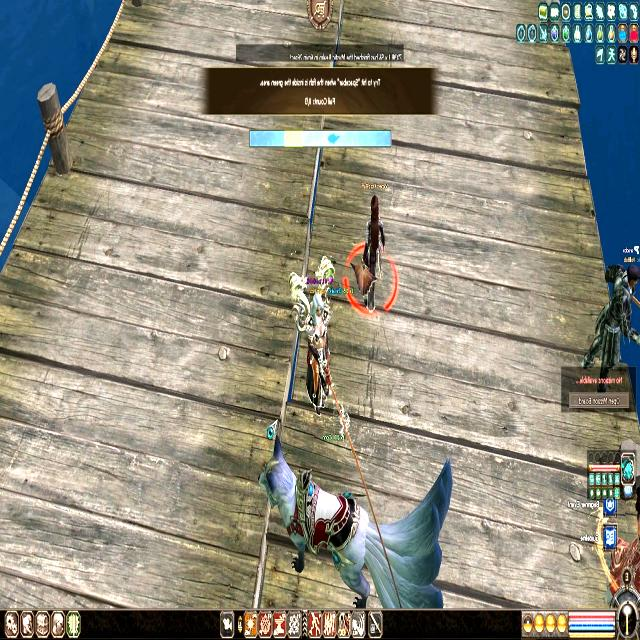fishes: (328, 131, 340, 145)
